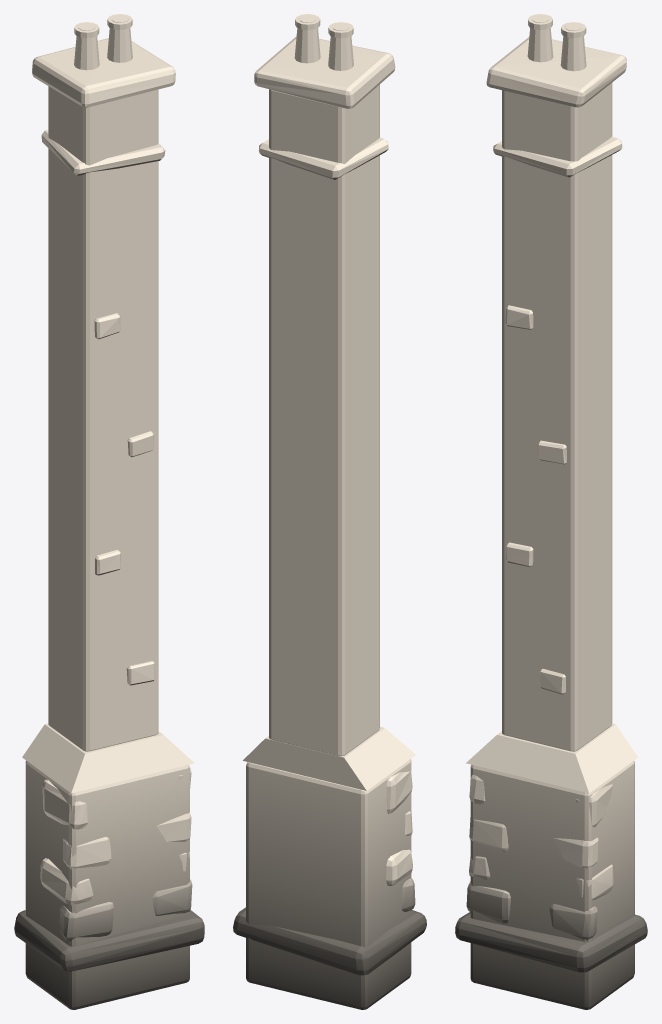
Rendered from SM_VK_Chimney_Gable_H58.fbx.
The picture shows the model from 3 angles, left to right: view 1: azimuth 30°, elevation 25°; view 2: azimuth 150°, elevation 25°; view 3: azimuth 330°, elevation 25°; orthographic projection.
Visible parts, largest first — view 1: SM_VK_Chimney_Gable_H58.001; view 2: SM_VK_Chimney_Gable_H58.001; view 3: SM_VK_Chimney_Gable_H58.001.
Boxes of the visible parts, x1,y1,x2,y2 form: SM_VK_Chimney_Gable_H58.001: (14,14,204,1009); SM_VK_Chimney_Gable_H58.001: (233,14,426,1009); SM_VK_Chimney_Gable_H58.001: (455,14,647,1009).
Bounding box in the file's own units: 1.94 × 12.1 × 1.49.
